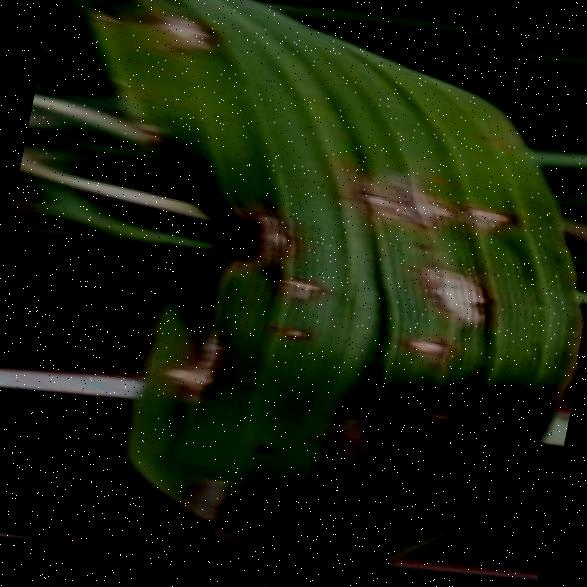Leaf_smut: (328, 138, 524, 255), (389, 239, 540, 352), (181, 176, 308, 298), (151, 304, 245, 404), (129, 0, 221, 79), (115, 96, 205, 172), (166, 450, 246, 520), (248, 296, 328, 357), (272, 259, 328, 307)
